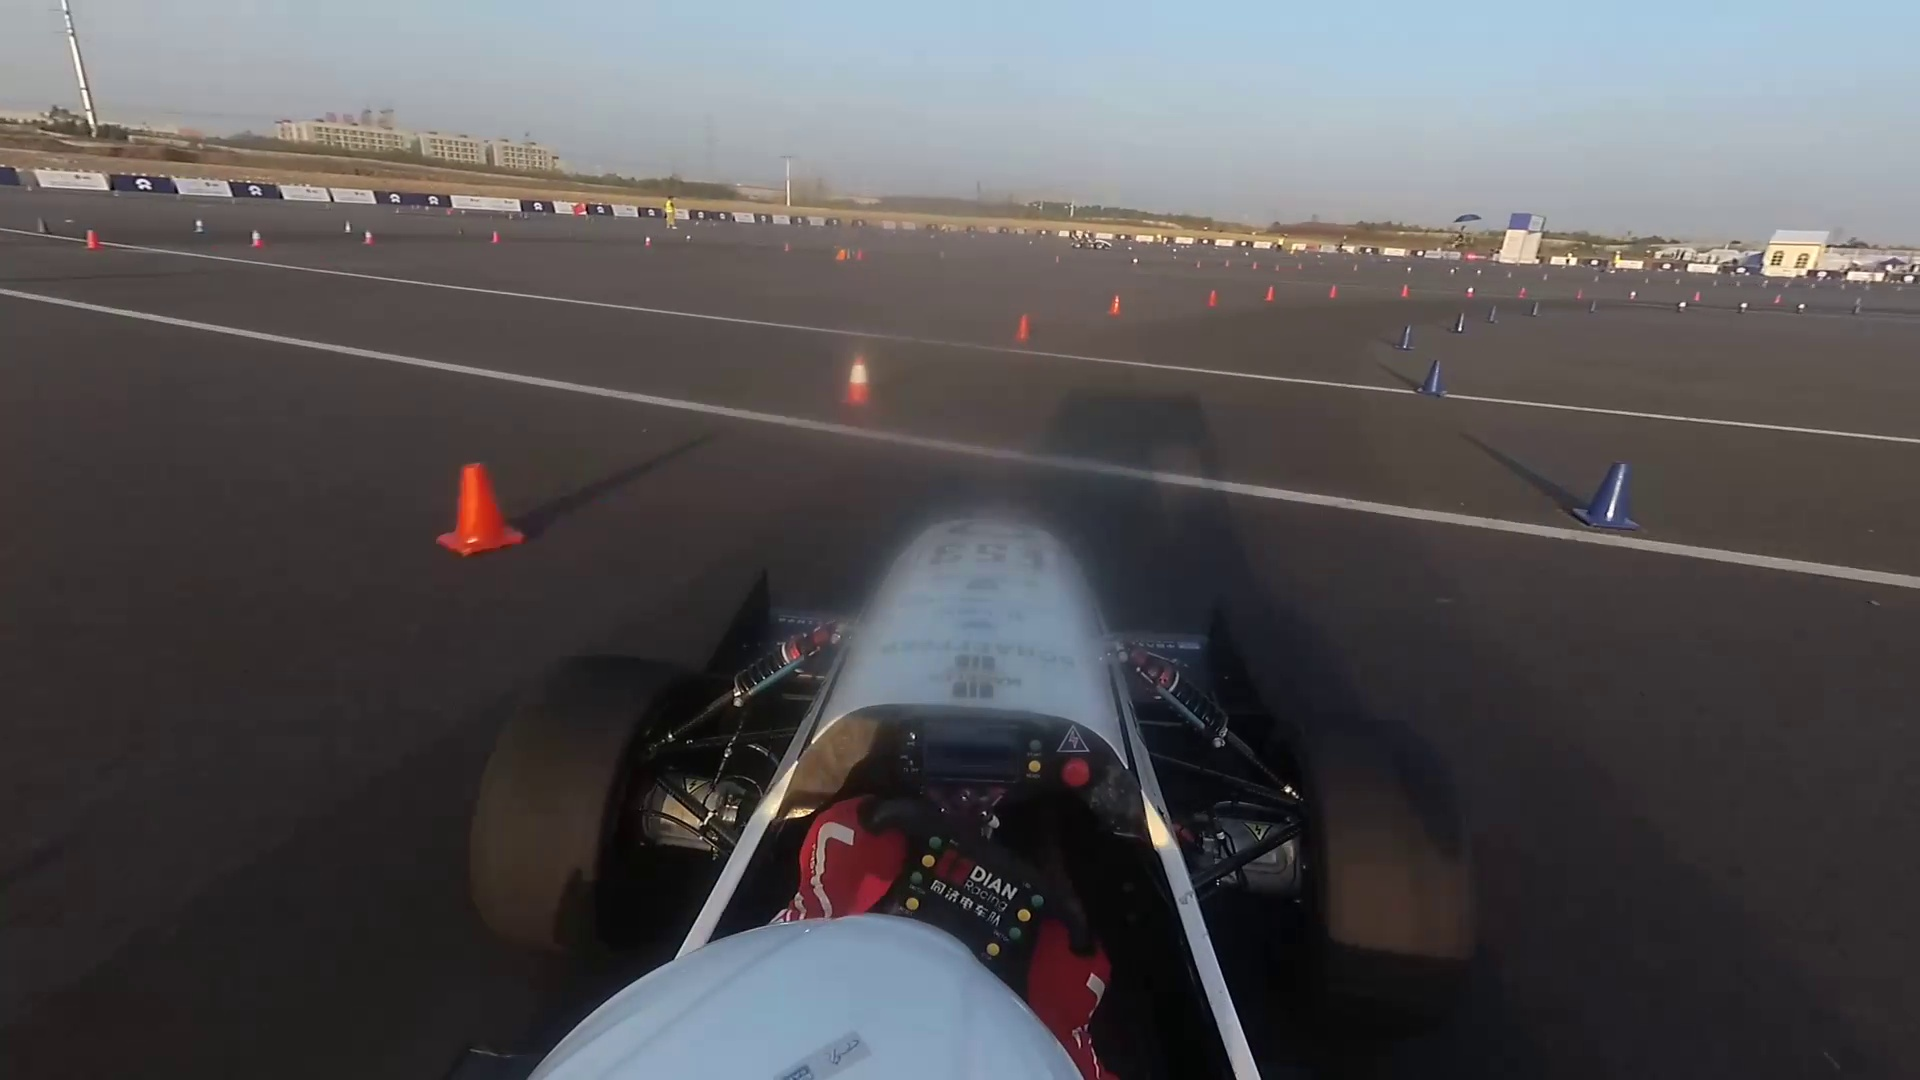blue_cone: (1585, 467, 1633, 530), (1415, 361, 1445, 400), (1394, 323, 1414, 349), (1452, 314, 1468, 334), (195, 218, 208, 235), (34, 219, 46, 235), (1489, 309, 1499, 324), (1795, 302, 1807, 315), (1676, 301, 1688, 314), (1531, 302, 1542, 316), (684, 233, 694, 244), (1589, 301, 1597, 313), (344, 222, 351, 235), (1738, 303, 1747, 313), (1851, 305, 1859, 315)
red_cone: (446, 467, 521, 556), (829, 364, 876, 411), (1102, 294, 1124, 315), (1015, 315, 1033, 340), (84, 229, 102, 253), (249, 231, 264, 249), (1207, 287, 1218, 307), (1265, 286, 1278, 301), (363, 229, 375, 245), (1399, 284, 1411, 297), (492, 232, 501, 247), (1465, 286, 1476, 298), (1518, 287, 1527, 301), (1629, 289, 1638, 302), (1329, 285, 1338, 298), (1774, 294, 1782, 306), (1575, 289, 1582, 299), (645, 236, 651, 248), (1695, 291, 1702, 301)
